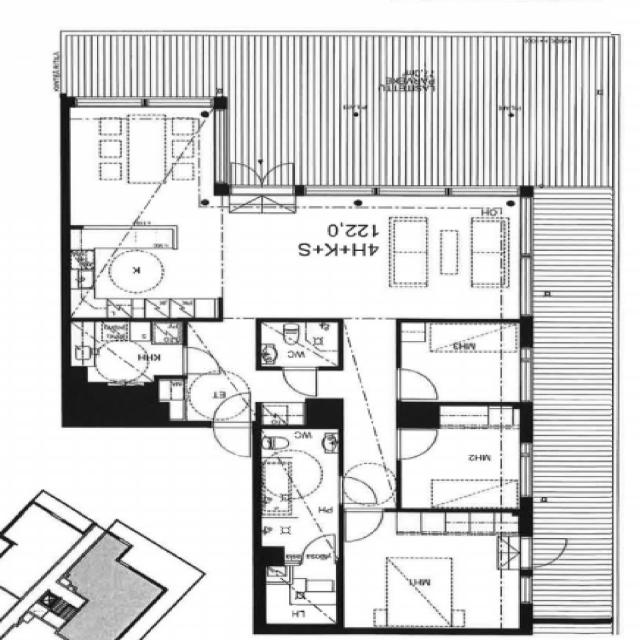door: (340, 476, 388, 545), (206, 391, 252, 459), (525, 531, 571, 570), (391, 427, 441, 461), (393, 366, 439, 401), (252, 160, 300, 193), (225, 160, 271, 194), (336, 474, 379, 506), (178, 344, 220, 376), (279, 366, 320, 398), (299, 532, 337, 564)
window: (68, 92, 147, 112), (300, 182, 378, 202), (141, 92, 217, 111), (517, 195, 537, 259), (444, 183, 523, 199), (376, 183, 450, 200), (33, 489, 70, 523), (517, 346, 537, 404), (517, 441, 536, 502), (518, 255, 536, 317), (516, 572, 535, 609)
zone: (222, 193, 522, 314), (344, 508, 520, 632), (64, 106, 221, 228), (68, 227, 220, 322), (399, 409, 526, 511), (258, 425, 340, 561), (395, 321, 527, 404), (69, 320, 187, 384), (260, 558, 339, 628), (256, 320, 341, 369)
